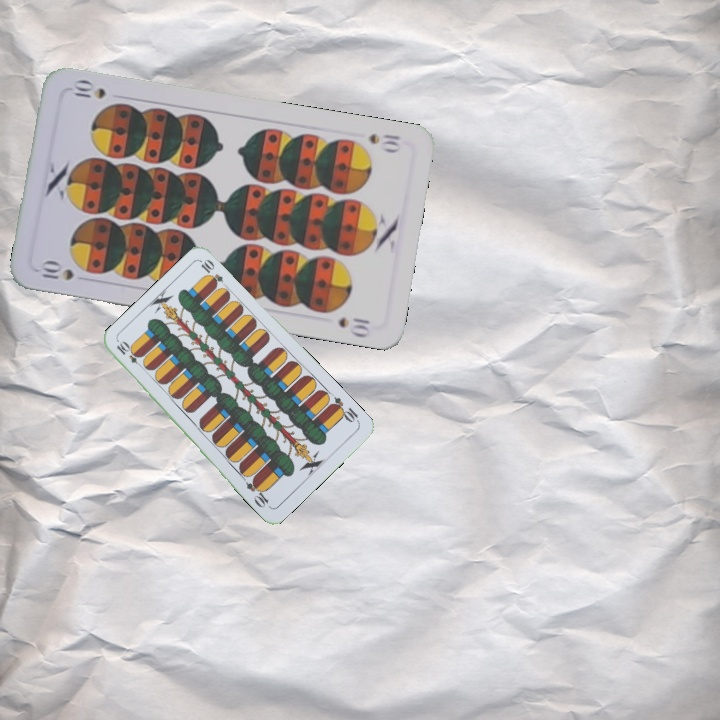E10: (112, 338, 147, 371), (326, 393, 362, 425)
S10: (364, 129, 403, 155), (37, 258, 76, 283)
